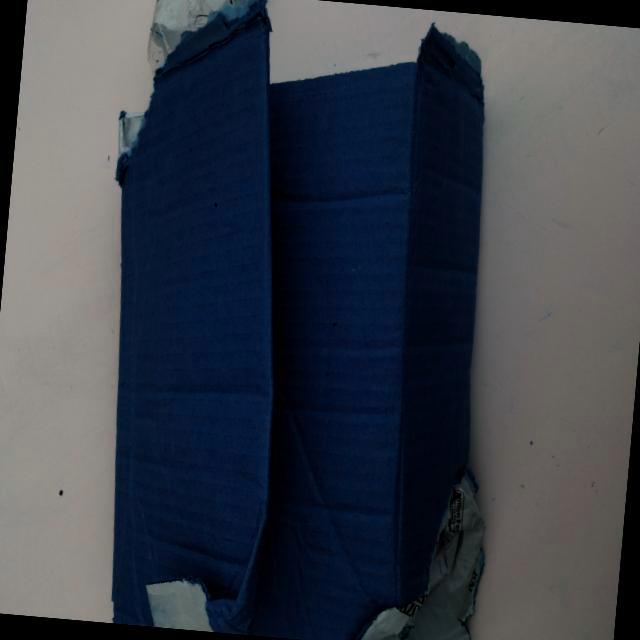cardboard: (71, 0, 549, 640)
